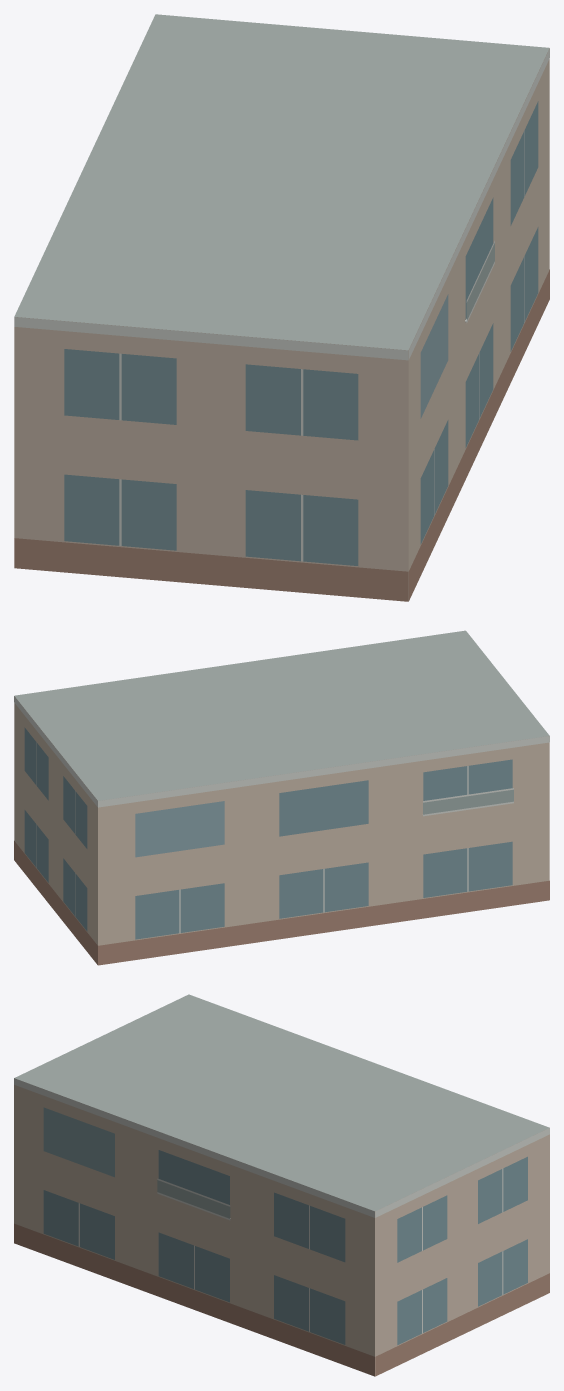
The model's file is survey-upis-32716190.glb.
3 views of the same model, one above another, from view 1: azimuth 30°, elevation 25°; view 2: azimuth 150°, elevation 25°; view 3: azimuth 270°, elevation 25° (orthographic). The views are drawn at different scales.
Visible parts, largest first — view 1: survey-upis-32716190.tmp; view 2: survey-upis-32716190.tmp; view 3: survey-upis-32716190.tmp.
Part boxes in pixels (x1,y1,x2,y2): survey-upis-32716190.tmp: (14, 14, 549, 601); survey-upis-32716190.tmp: (14, 630, 549, 965); survey-upis-32716190.tmp: (14, 994, 549, 1376).
Bounding box in the file's own units: 17.21 × 6.1 × 17.94.
